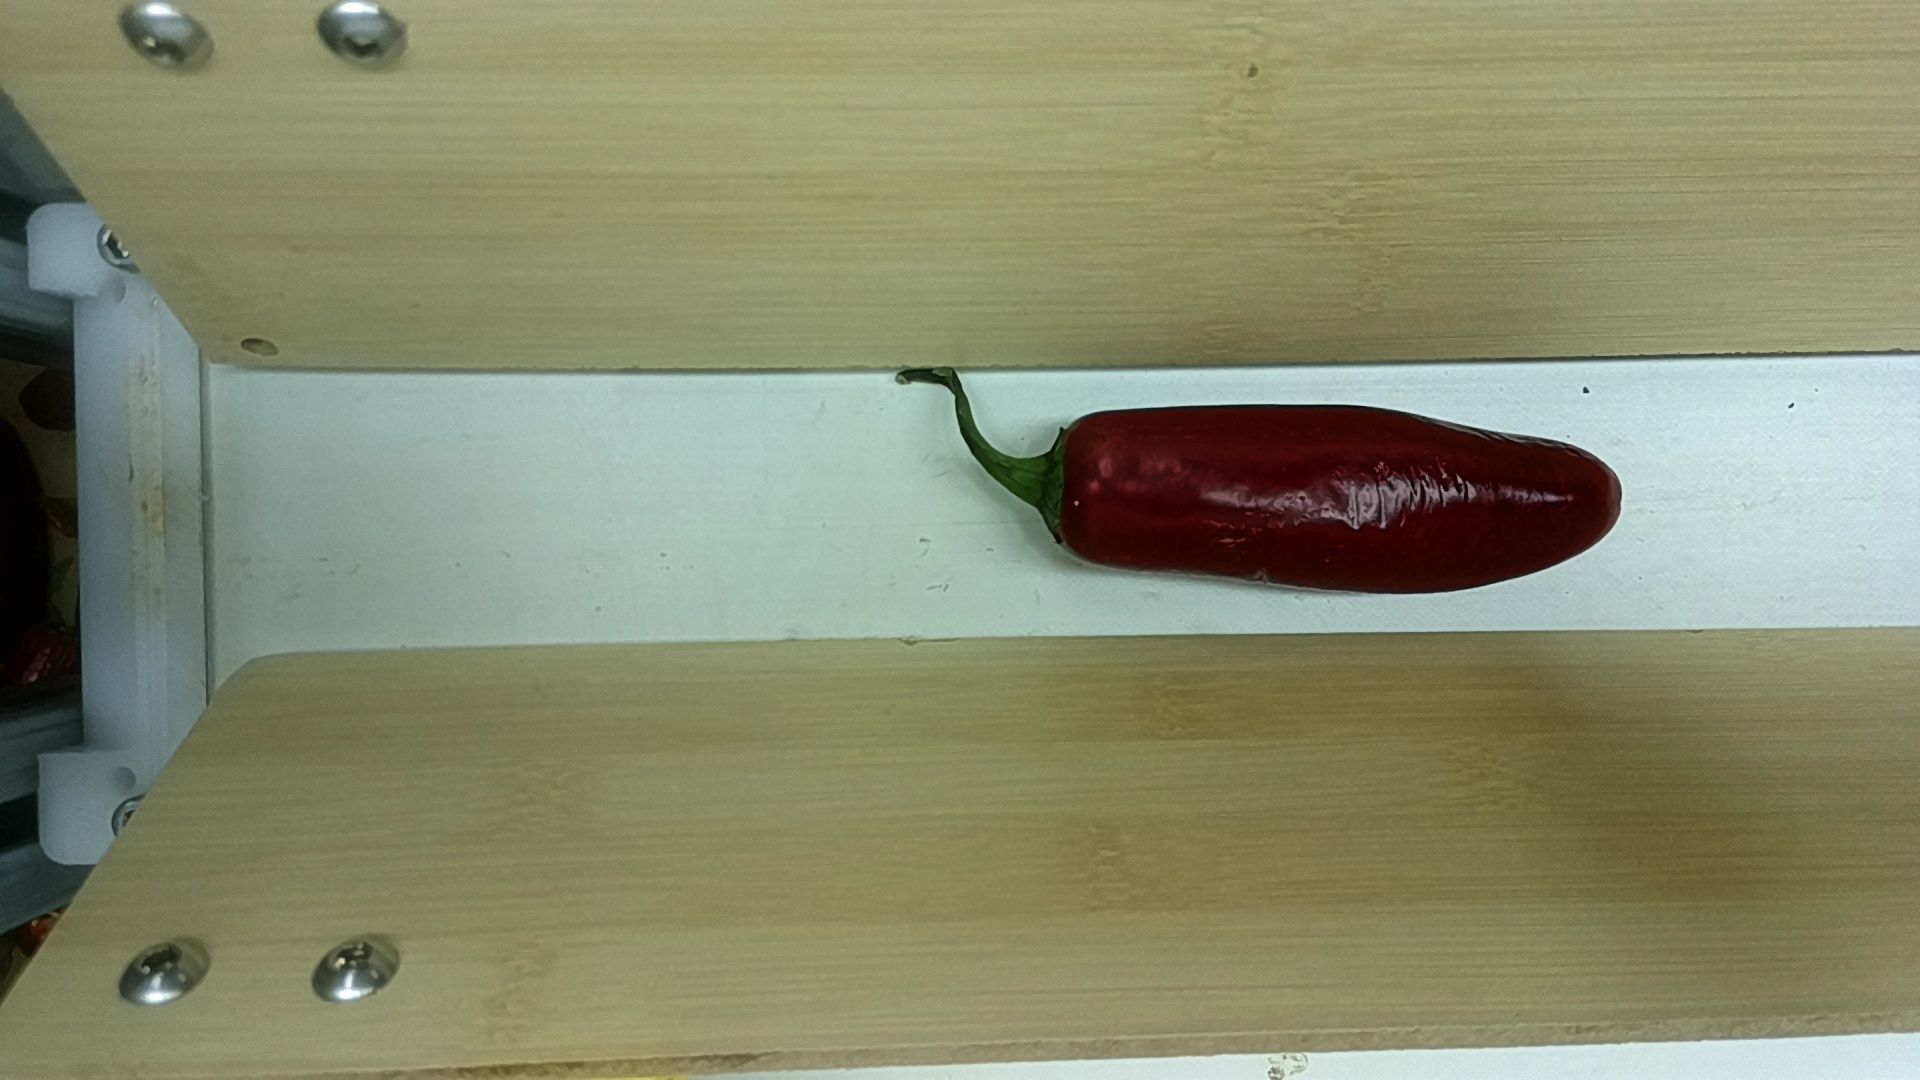Cut Point: (1029, 396, 1102, 574)
